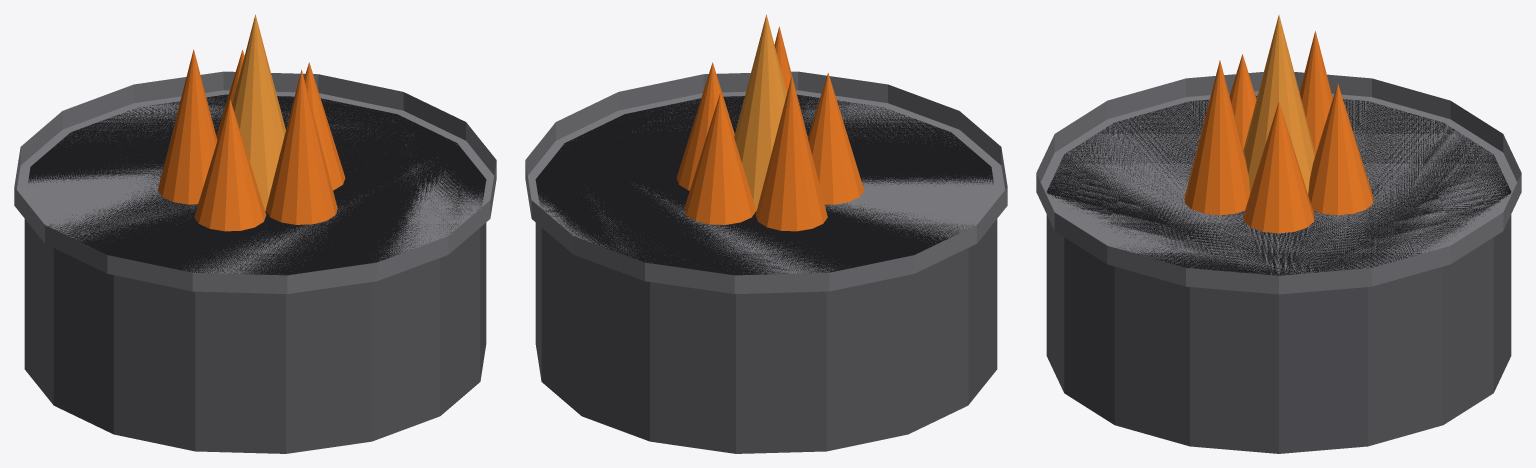
Rendered from fire_pit.obj.
The picture shows the model from 3 angles, left to right: view 1: azimuth 30°, elevation 25°; view 2: azimuth 150°, elevation 25°; view 3: azimuth 270°, elevation 25°; orthographic projection.
Visible parts, largest first — view 1: fire_pit; view 2: fire_pit; view 3: fire_pit.
Part boxes in pixels (box(x1,y1,x2,y2)): fire_pit: box(14, 14, 496, 453); fire_pit: box(525, 14, 1007, 453); fire_pit: box(1036, 15, 1521, 453).
Bounding box in the file's own units: 0.94 × 0.73 × 0.94.
